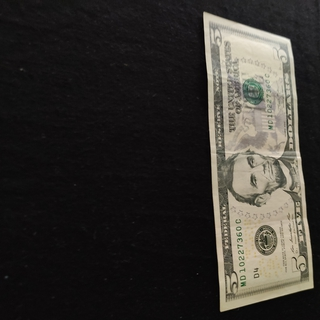5USDFront: (202, 10, 314, 311)
